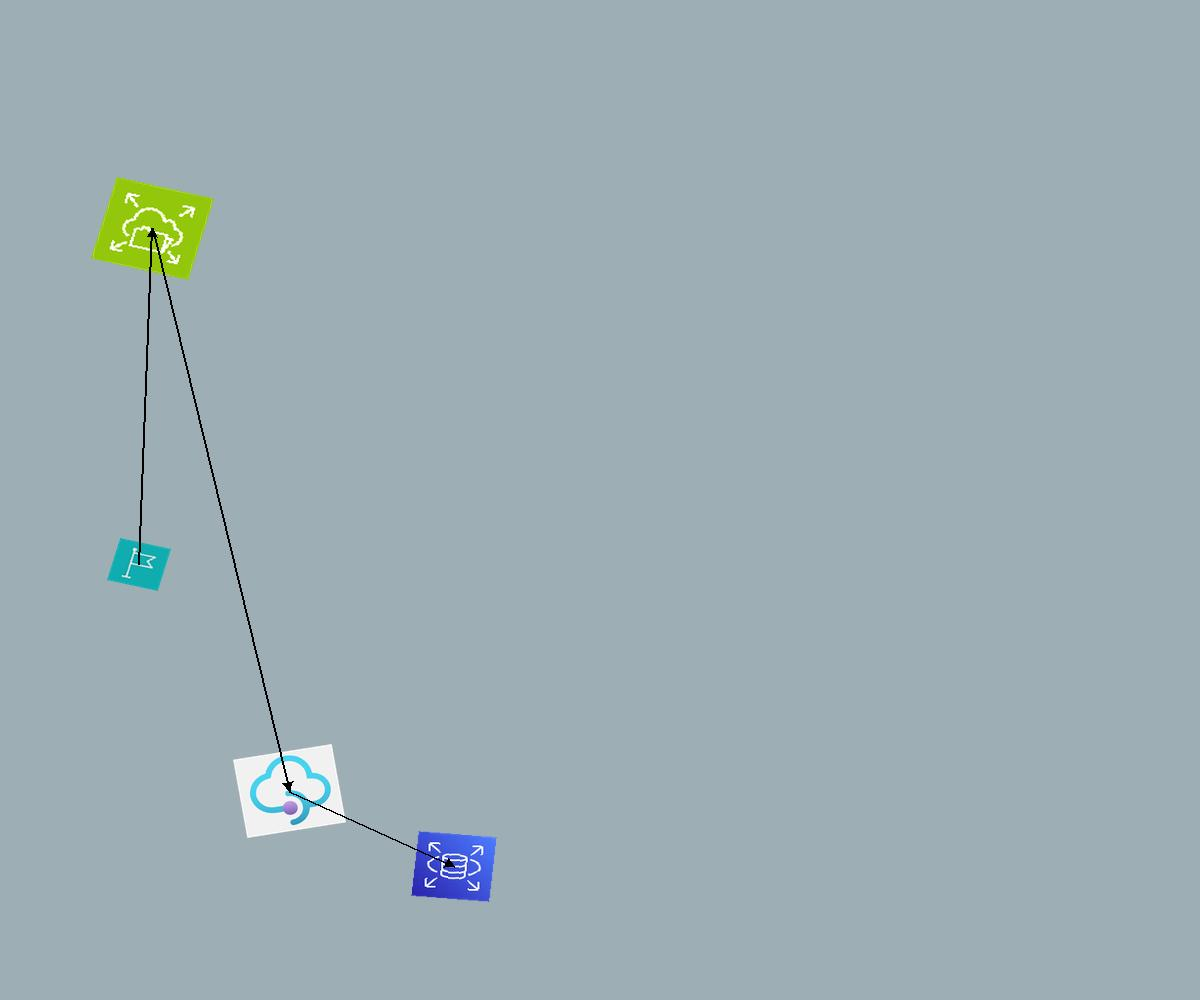AWS-EFS: (91, 177, 214, 280)
AWS-RDS: (411, 831, 497, 902)
AWS-Region: (107, 538, 171, 591)
Azure_api_gateway: (233, 744, 346, 838)
